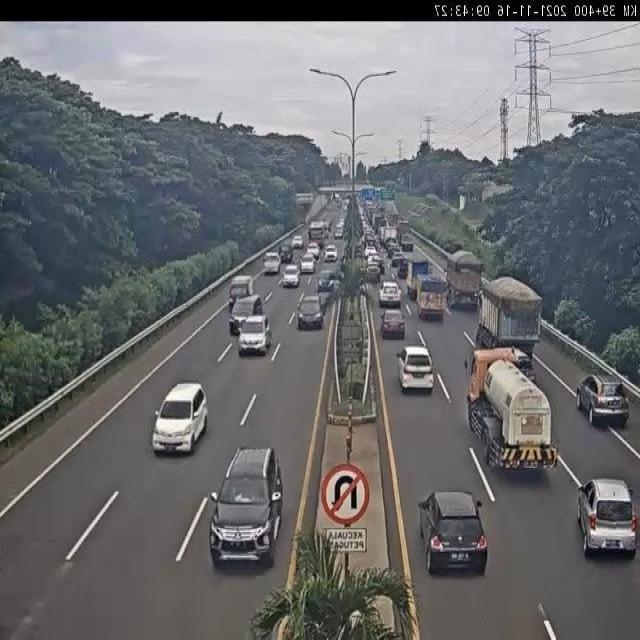Car: (197, 440, 296, 578), (144, 374, 223, 471), (418, 490, 488, 574), (576, 478, 640, 558), (576, 374, 630, 428), (396, 344, 434, 394), (237, 312, 273, 357), (227, 296, 262, 334), (296, 294, 324, 330), (380, 308, 405, 338), (378, 280, 402, 308), (318, 267, 338, 292), (282, 264, 300, 288), (263, 253, 281, 275), (365, 261, 381, 284), (300, 253, 316, 274), (306, 242, 321, 260), (279, 244, 293, 263), (391, 251, 405, 269), (385, 238, 399, 256), (324, 245, 338, 262), (397, 259, 409, 278), (334, 222, 345, 238), (292, 235, 303, 250), (323, 222, 331, 237)
Truck: (467, 344, 558, 467), (477, 270, 542, 350), (448, 248, 486, 312), (415, 275, 445, 315), (410, 258, 432, 292)
Van: (228, 271, 254, 309)
